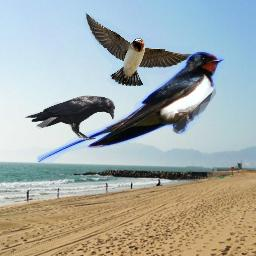Crow: (24, 95, 115, 140)
Swallow: (35, 51, 225, 163), (84, 11, 194, 86)
